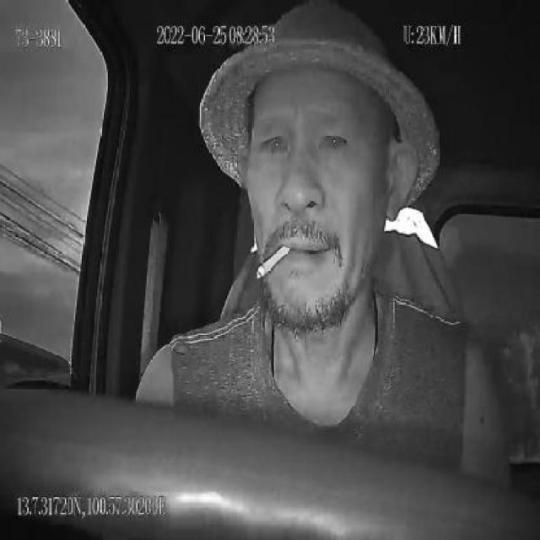smoking: (256, 242, 291, 280)
